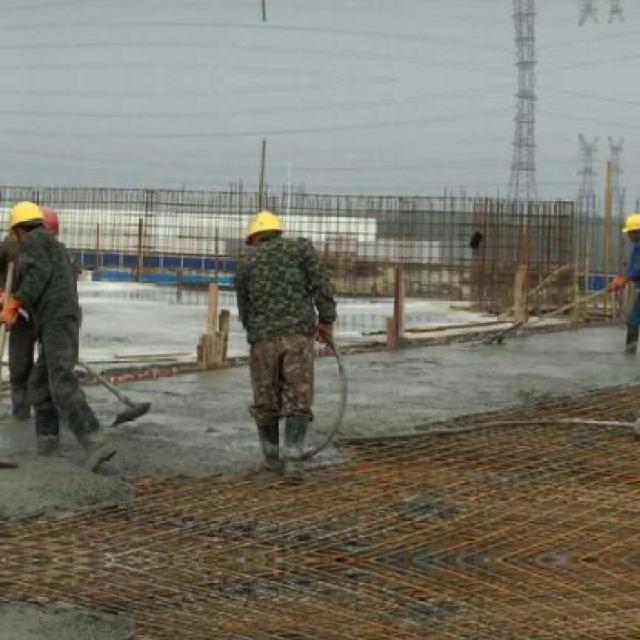con casco: (228, 195, 318, 253), (2, 195, 57, 239)
